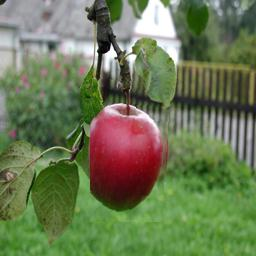Apple Fresh: (91, 78, 172, 222)
